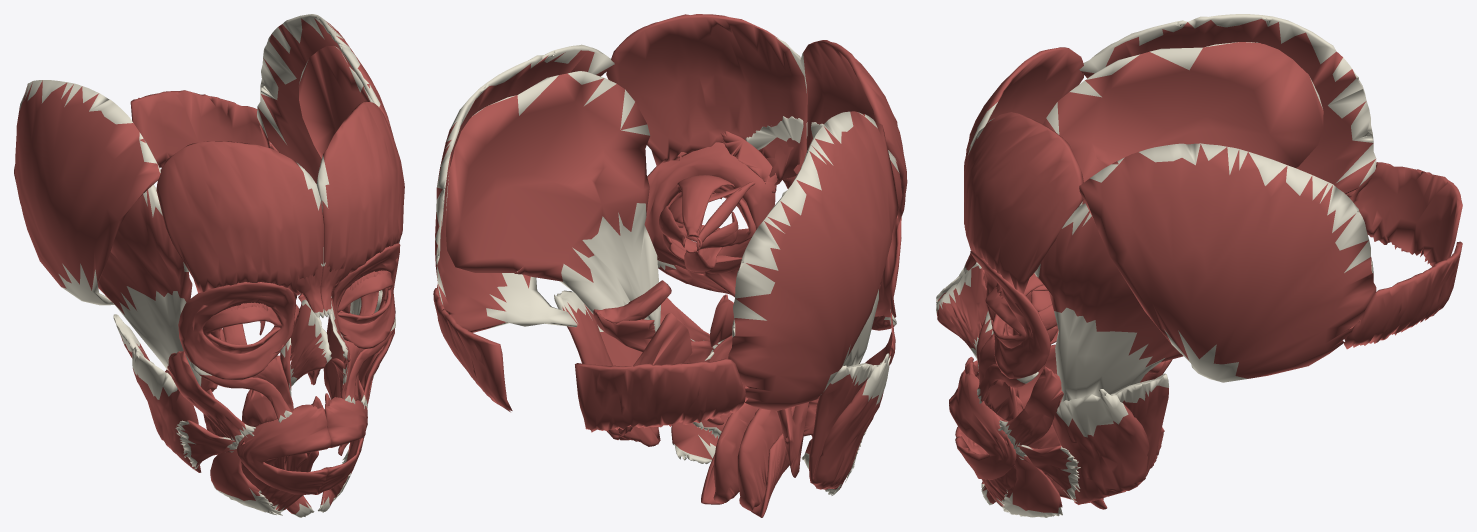
File: muscular-head-mobile.glb
3 views of the same model, side by side, from view 1: azimuth 30°, elevation 25°; view 2: azimuth 150°, elevation 25°; view 3: azimuth 270°, elevation 25° (orthographic). The views are drawn at different scales.
Visible parts, largest first — view 1: za.temporoparietalis-muscle-r, za.frontalis-muscle-r, za.frontalis-muscle-l, za.temporalis-muscle-r, za.temporoparietalis-muscle-l, za.orbital-part-of-orbicularis-oculi-r, za.occipitalis-muscle-l, za.orbicularis-oris-muscle-r, za.temporalis-muscle-l, za.superficial-part-of-masseter-r, za.orbital-part-of-orbicularis-oculi-l, za.orbicularis-oris-muscle-l (+17 smaller); view 2: za.temporalis-muscle-l, za.temporoparietalis-muscle-r, za.frontalis-muscle-l, za.temporoparietalis-muscle-l, za.occipitalis-muscle-r, za.frontalis-muscle-r, za.orbital-part-of-orbicularis-oculi-l, za.superficial-part-of-masseter-r, za.occipitalis-muscle-l, za.genioglossus-muscle-r, za.deep-part-of-masseter-r, za.deep-part-of-masseter-l (+22 smaller); view 3: za.temporoparietalis-muscle-l, za.temporalis-muscle-r, za.frontalis-muscle-l, za.temporalis-muscle-l, za.temporoparietalis-muscle-r, za.occipitalis-muscle-r, za.superficial-part-of-masseter-l, za.frontalis-muscle-r, za.occipitalis-muscle-l, za.orbicularis-oris-muscle-l, za.orbital-part-of-orbicularis-oculi-l, za.nasalis-muscle-l (+9 smaller).
Boxes of the visible parts, left/top/right/bottom form: za.temporoparietalis-muscle-r: left=15, top=80, right=160, bottom=305; za.frontalis-muscle-r: left=156, top=141, right=323, bottom=295; za.frontalis-muscle-l: left=316, top=101, right=404, bottom=285; za.temporalis-muscle-r: left=97, top=184, right=201, bottom=386; za.temporoparietalis-muscle-l: left=257, top=14, right=393, bottom=183; za.orbital-part-of-orbicularis-oculi-r: left=178, top=282, right=295, bottom=380; za.occipitalis-muscle-l: left=130, top=90, right=270, bottom=167; za.orbicularis-oris-muscle-r: left=236, top=404, right=331, bottom=494; za.temporalis-muscle-l: left=298, top=46, right=373, bottom=315; za.superficial-part-of-masseter-r: left=132, top=346, right=201, bottom=472; za.orbital-part-of-orbicularis-oculi-l: left=331, top=243, right=400, bottom=348; za.orbicularis-oris-muscle-l: left=316, top=397, right=367, bottom=494; za.temporalis-muscle-l: left=445, top=71, right=660, bottom=332; za.temporoparietalis-muscle-r: left=728, top=111, right=898, bottom=411; za.frontalis-muscle-l: left=606, top=14, right=807, bottom=185; za.temporoparietalis-muscle-l: left=435, top=44, right=614, bottom=332; za.occipitalis-muscle-r: left=575, top=358, right=745, bottom=432; za.frontalis-muscle-r: left=800, top=40, right=907, bottom=224; za.orbital-part-of-orbicularis-oculi-l: left=644, top=142, right=775, bottom=273; za.superficial-part-of-masseter-r: left=812, top=353, right=890, bottom=489; za.occipitalis-muscle-l: left=433, top=288, right=512, bottom=412; za.genioglossus-muscle-r: left=737, top=407, right=791, bottom=510; za.deep-part-of-masseter-r: left=809, top=363, right=877, bottom=489; za.deep-part-of-masseter-l: left=554, top=290, right=658, bottom=446; za.temporoparietalis-muscle-l: left=1079, top=143, right=1376, bottom=382; za.temporalis-muscle-r: left=1043, top=42, right=1323, bottom=206; za.frontalis-muscle-l: left=964, top=112, right=1083, bottom=293; za.temporalis-muscle-l: left=1034, top=203, right=1183, bottom=401; za.temporoparietalis-muscle-r: left=1079, top=14, right=1376, bottom=202; za.occipitalis-muscle-r: left=1353, top=162, right=1462, bottom=266; za.superficial-part-of-masseter-l: left=1052, top=389, right=1149, bottom=504; za.frontalis-muscle-r: left=964, top=47, right=1083, bottom=201; za.occipitalis-muscle-l: left=1344, top=241, right=1462, bottom=349; za.orbicularis-oris-muscle-l: left=949, top=372, right=1016, bottom=479; za.orbital-part-of-orbicularis-oculi-l: left=970, top=251, right=1050, bottom=378; za.nasalis-muscle-l: left=936, top=262, right=987, bottom=359.
Bounding box in the file's own units: 0.1607 × 0.1798 × 0.2048.
